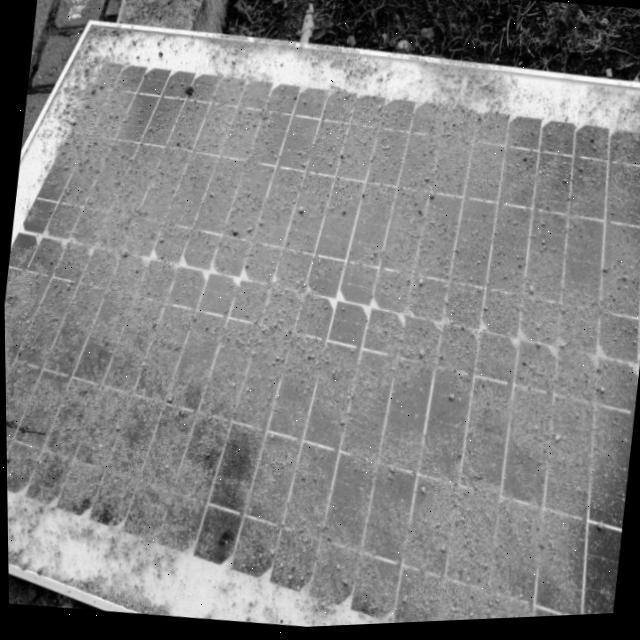Surface Contaminant: (3, 79, 640, 558)
